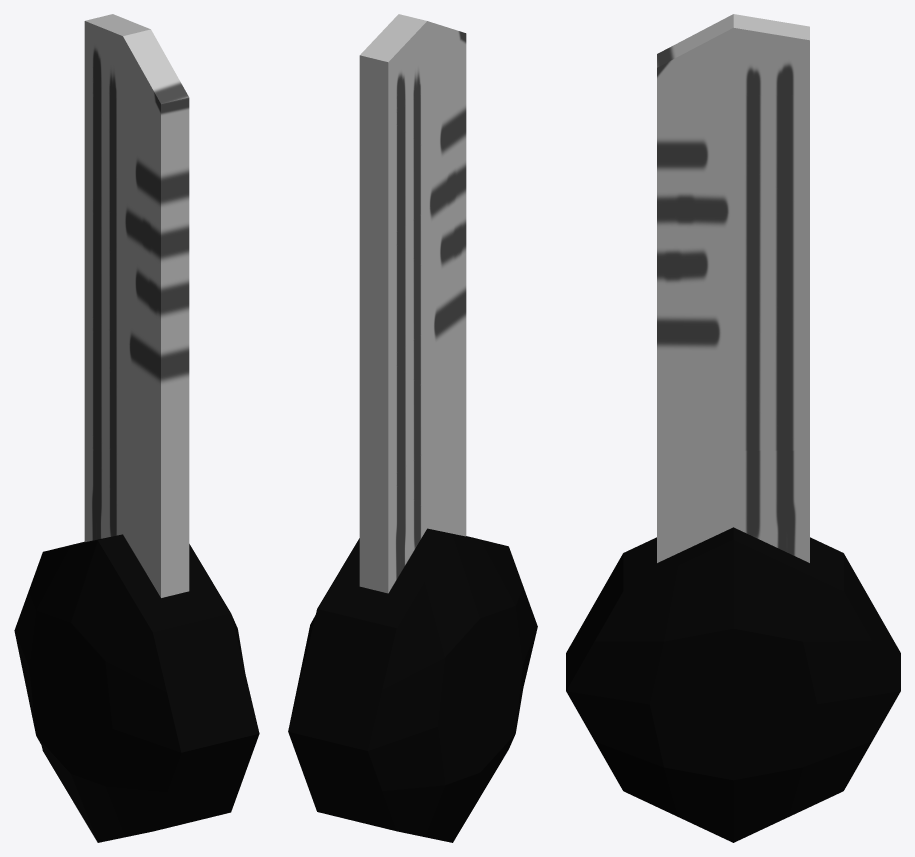
Rendered from key.fbx.
The picture shows the model from 3 angles, left to right: view 1: azimuth 30°, elevation 25°; view 2: azimuth 150°, elevation 25°; view 3: azimuth 270°, elevation 25°; orthographic projection.
Visible parts, largest first — view 1: Cube.001; view 2: Cube.001; view 3: Cube.001.
Boxes of the visible parts, box(x1,y1,x2,y2) form: Cube.001: box(14, 14, 259, 842); Cube.001: box(288, 14, 537, 842); Cube.001: box(566, 14, 900, 842).
Bounding box in the file's own units: 88.78 × 513 × 194.
